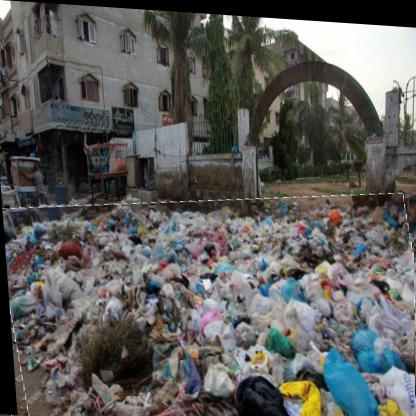Garbage: (1, 177, 416, 416)
